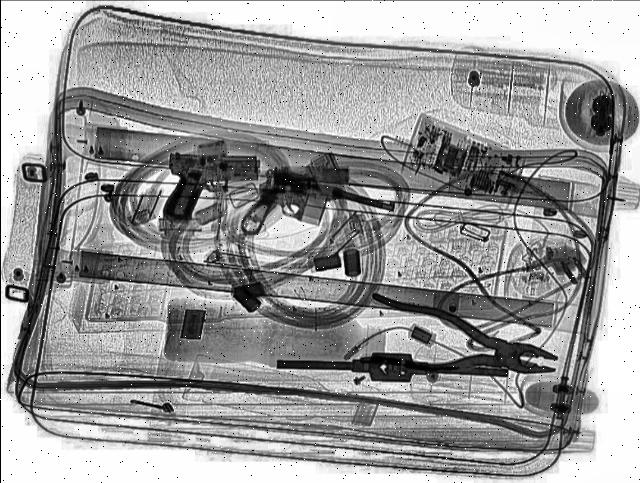Gun: (238, 164, 402, 260), (160, 152, 260, 222)
Pliers: (342, 291, 570, 399)
